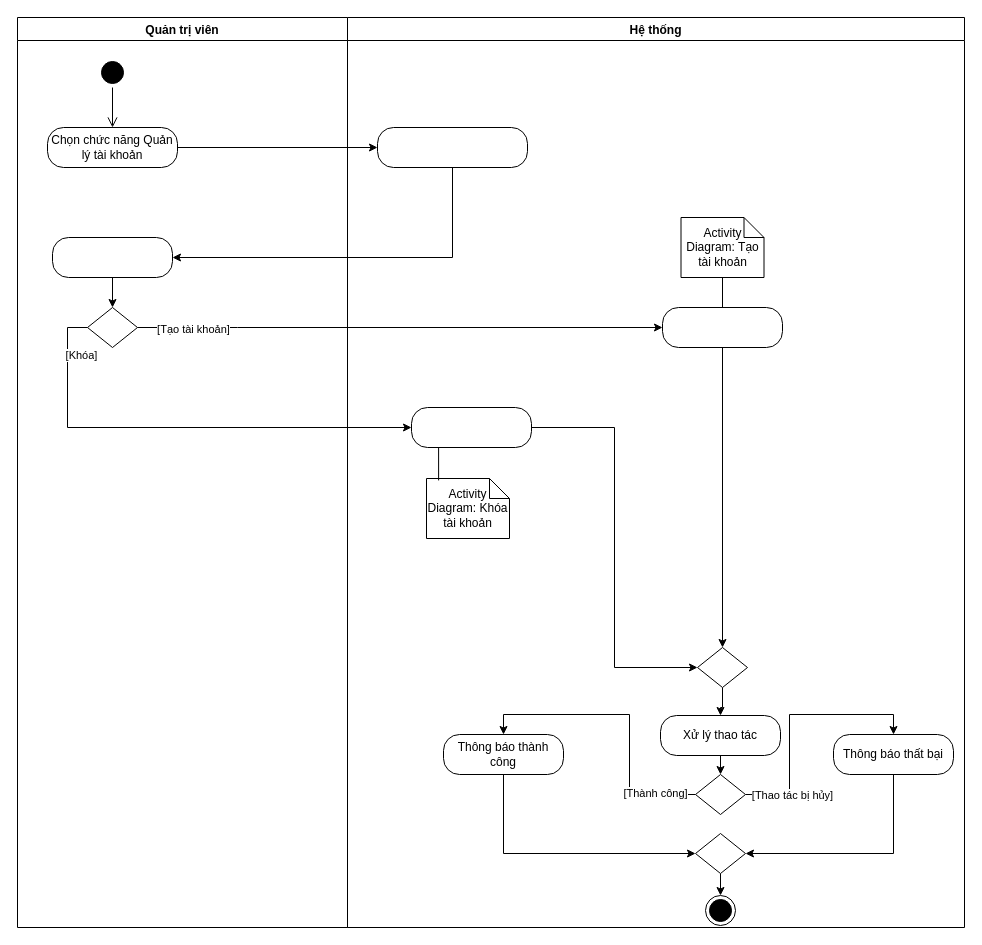
Some shapes in this 982 by 945 pixel diagram are drawn without their labels. The centre of each missing label's shape, as x and y in pixels:
"Hiển thị danh sách tài khoản của nhân viên" goes at [452,147].
"Khóa tài khoản" goes at [471,427].
"Thực hiện các thao tác quản lý" goes at [112,257].
"Tạo tài khoản" goes at [722,327].
